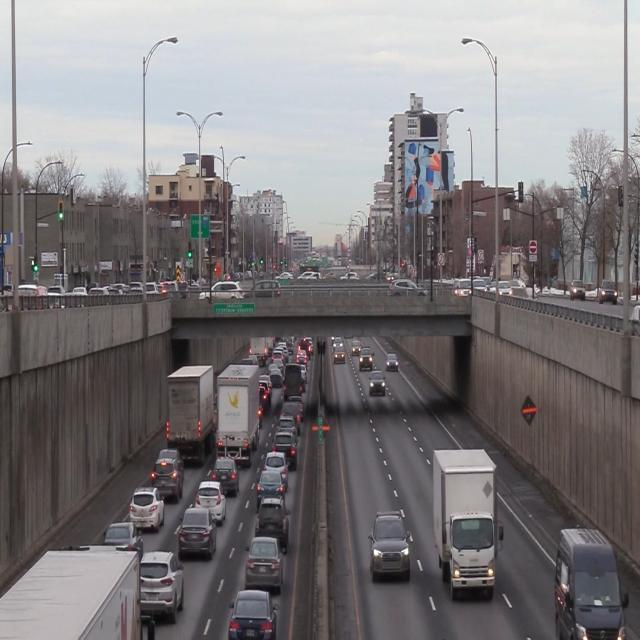Car: (366, 509, 413, 581)
MiniBus: (553, 527, 629, 639)
Traffic-light: (57, 200, 64, 221), (29, 256, 37, 272)
Truck: (431, 448, 503, 601)
